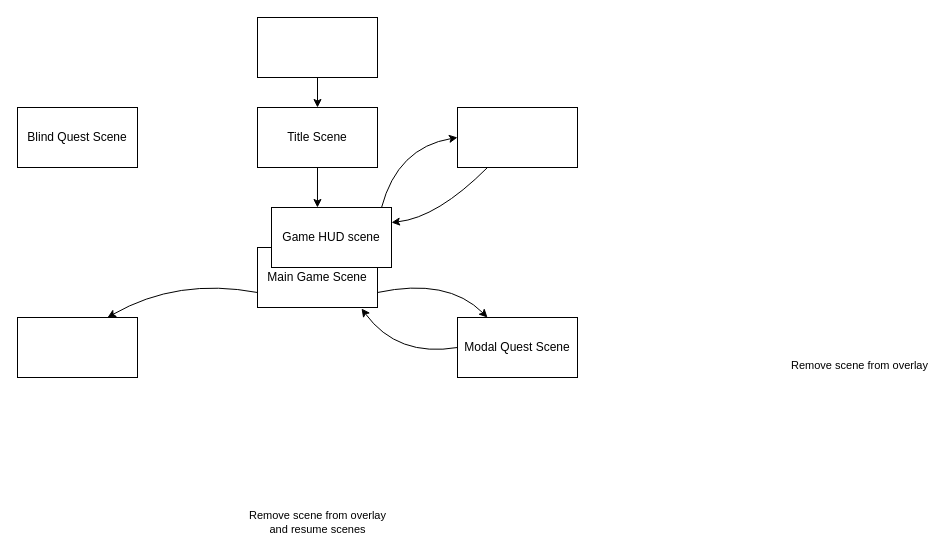
Image size: 945x552. Some labels were removed from this diagram. The shapes that lost their labels are listed below. From the top down, each one's centre as x and y in pixels, then its label:
At pixel 317 47: "Initialise Assets".
At pixel 517 137: "Interact Notification Scene".
At pixel 77 347: "Game Information overlay Scene".
